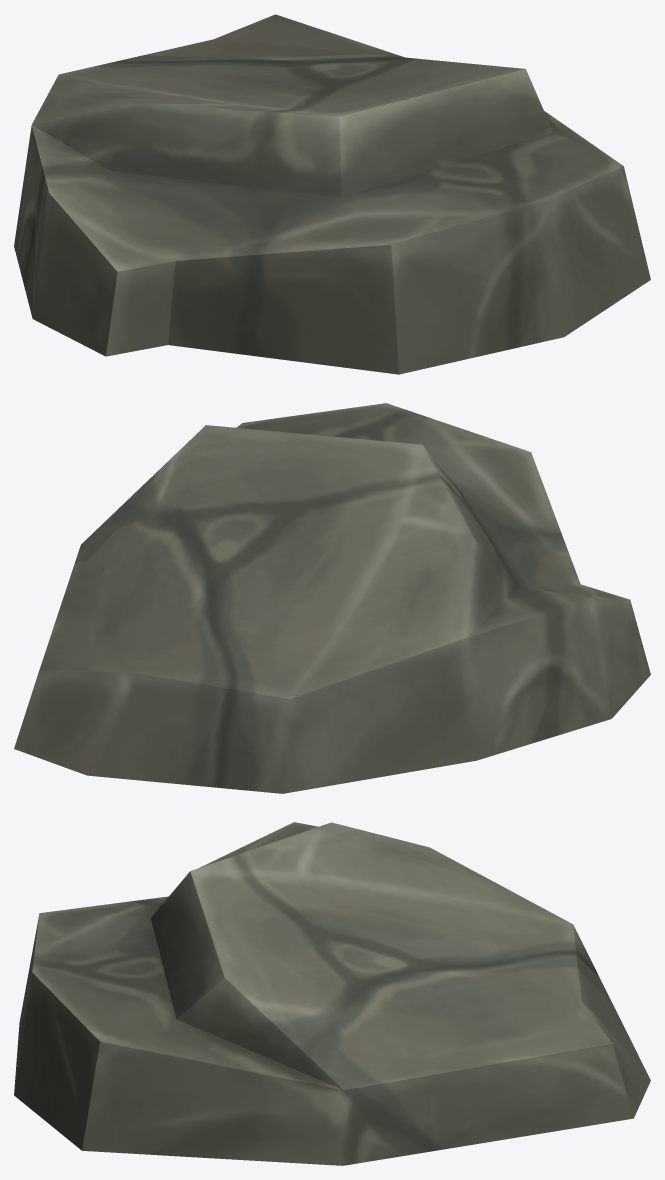
File: Rock_06.fbx
3 renders of one model, top to bottom at view 1: azimuth 30°, elevation 25°; view 2: azimuth 150°, elevation 25°; view 3: azimuth 270°, elevation 25°, orthographic. The views are drawn at different scales.
Parts seen in each view (by area): view 1: polySurface567; view 2: polySurface567; view 3: polySurface567.
Boxes of the visible parts, x1=… form: polySurface567: x1=14, y1=14, x2=650, y2=374; polySurface567: x1=14, y1=403, x2=650, y2=793; polySurface567: x1=14, y1=822, x2=650, y2=1165.
Bounding box in the file's own units: 69.82 × 22.56 × 78.12.
1 material, 1 textured.
